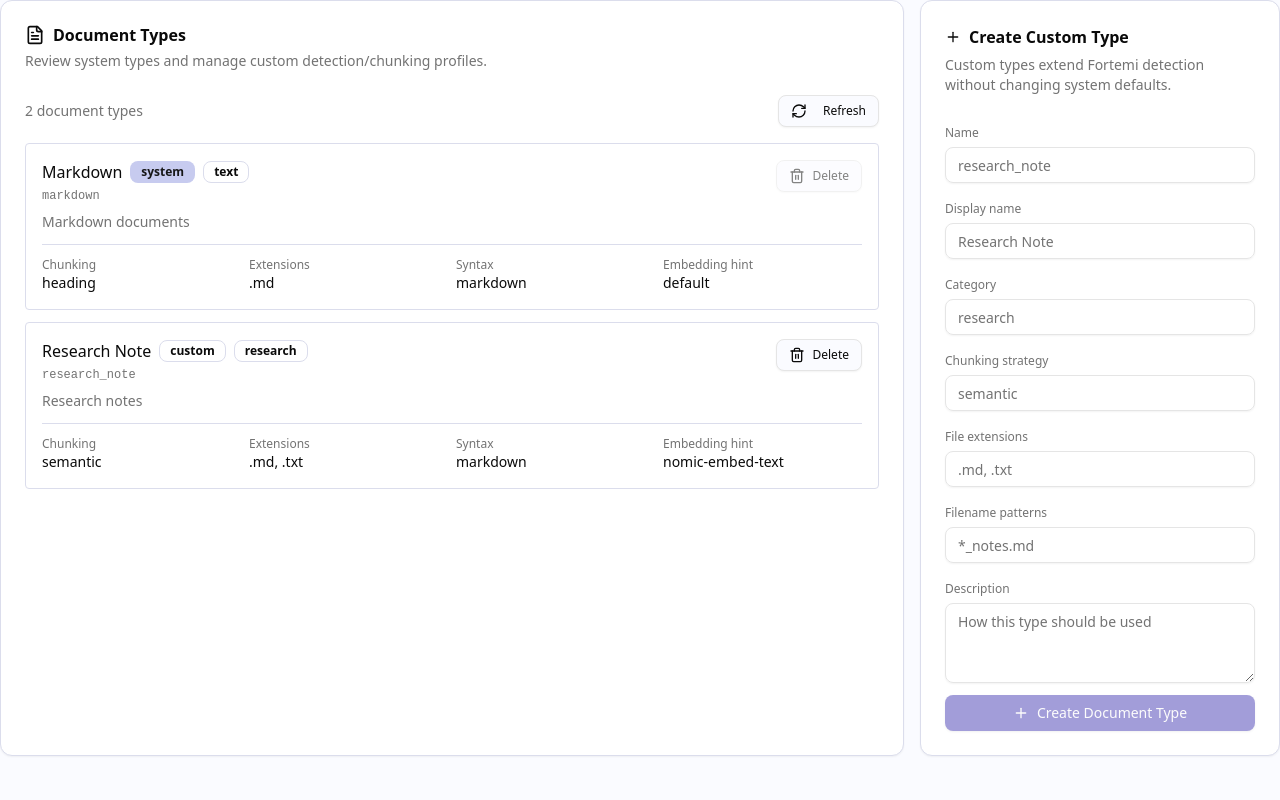
Test: DocumentTypesPanel › deletes custom document types but disables system type delete
Check: the text "Research Note" is shown, box [42,339,151,363]
Check: the 1st button "Delete" is disabled, box [776,160,862,192]
Click the button "Delete" in the row of "research_note": [819, 355] box [776,339,862,371]
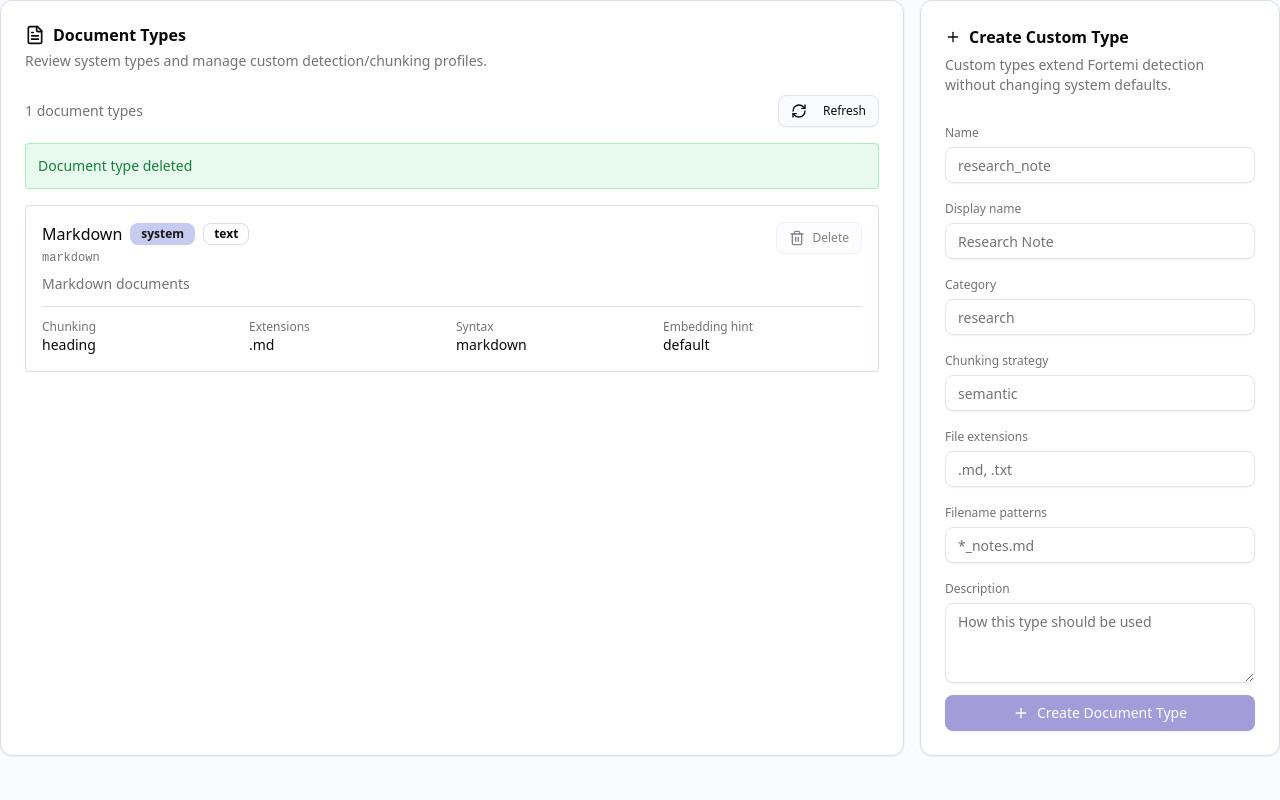
Check: the text "Document type deleted" is shown, box [25,143,879,189]
